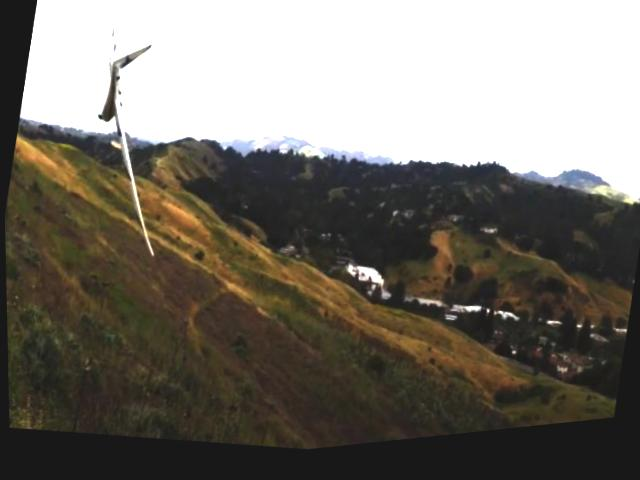iha: (52, 0, 203, 266)
